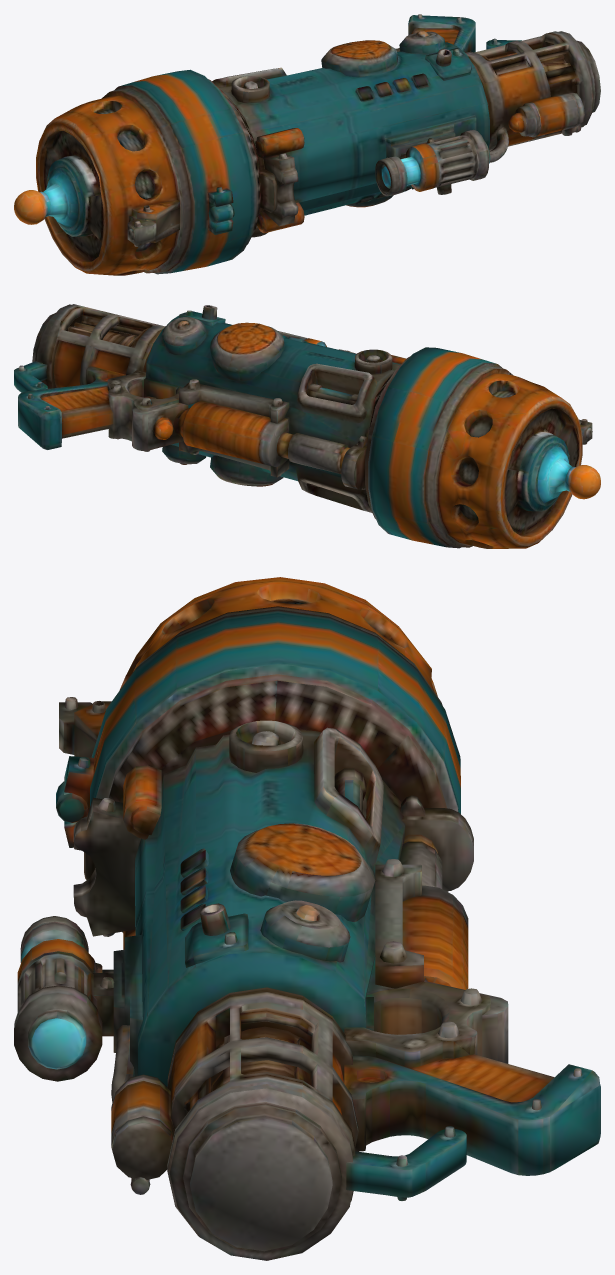
The model's file is alien_blaster.glb.
The picture shows the model from 3 angles, top to bottom: view 1: azimuth 30°, elevation 25°; view 2: azimuth 150°, elevation 25°; view 3: azimuth 270°, elevation 25°; orthographic projection. The views are drawn at different scales.
Visible parts, largest first — view 1: alien_blaster; view 2: alien_blaster; view 3: alien_blaster.
Part boxes in pixels (<box>): alien_blaster: <box>14,14,600,275</box>; alien_blaster: <box>14,304,600,548</box>; alien_blaster: <box>14,577,600,1260</box>.
Bounding box in the file's own units: 0.9995 × 0.3061 × 0.4712.
Materials: 1 (1 with a texture image).
